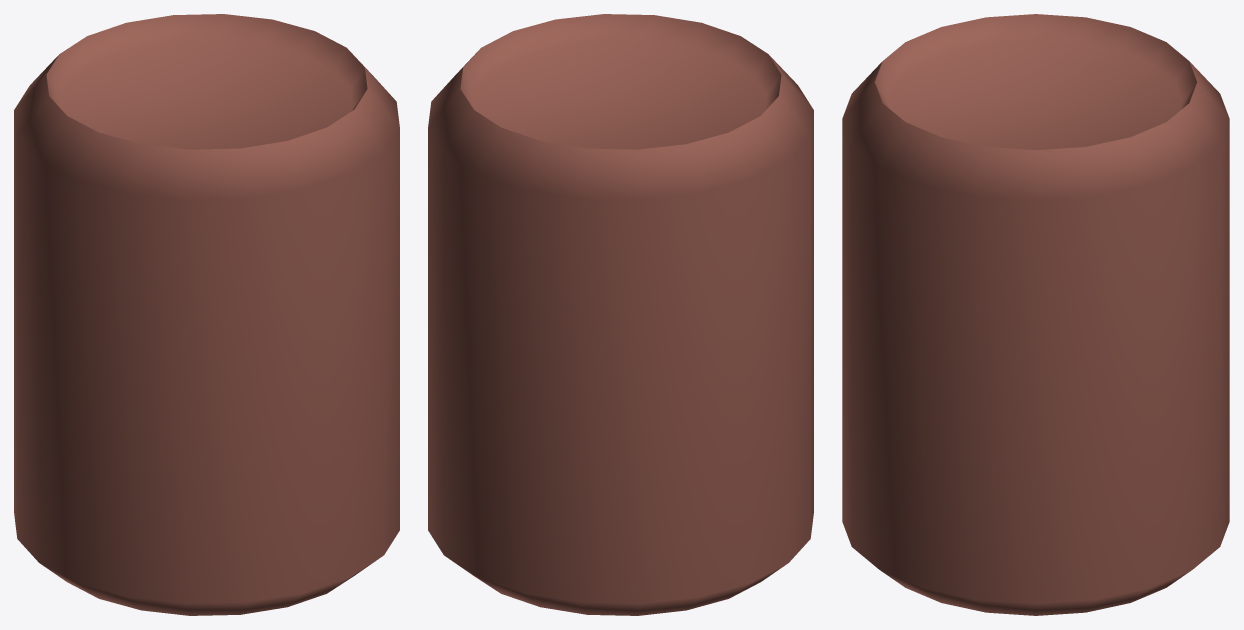
File: JH_Can.fbx
3 renders of one model, left to right at view 1: azimuth 30°, elevation 25°; view 2: azimuth 150°, elevation 25°; view 3: azimuth 270°, elevation 25°, orthographic.
Parts seen in each view (by area): view 1: Can; view 2: Can; view 3: Can.
Boxes of the visible parts, x1,y1,x2,y2 form: Can: (14, 14, 399, 615); Can: (428, 14, 813, 615); Can: (842, 14, 1229, 615).
Bounding box in the file's own units: 5 × 6.63 × 5.
